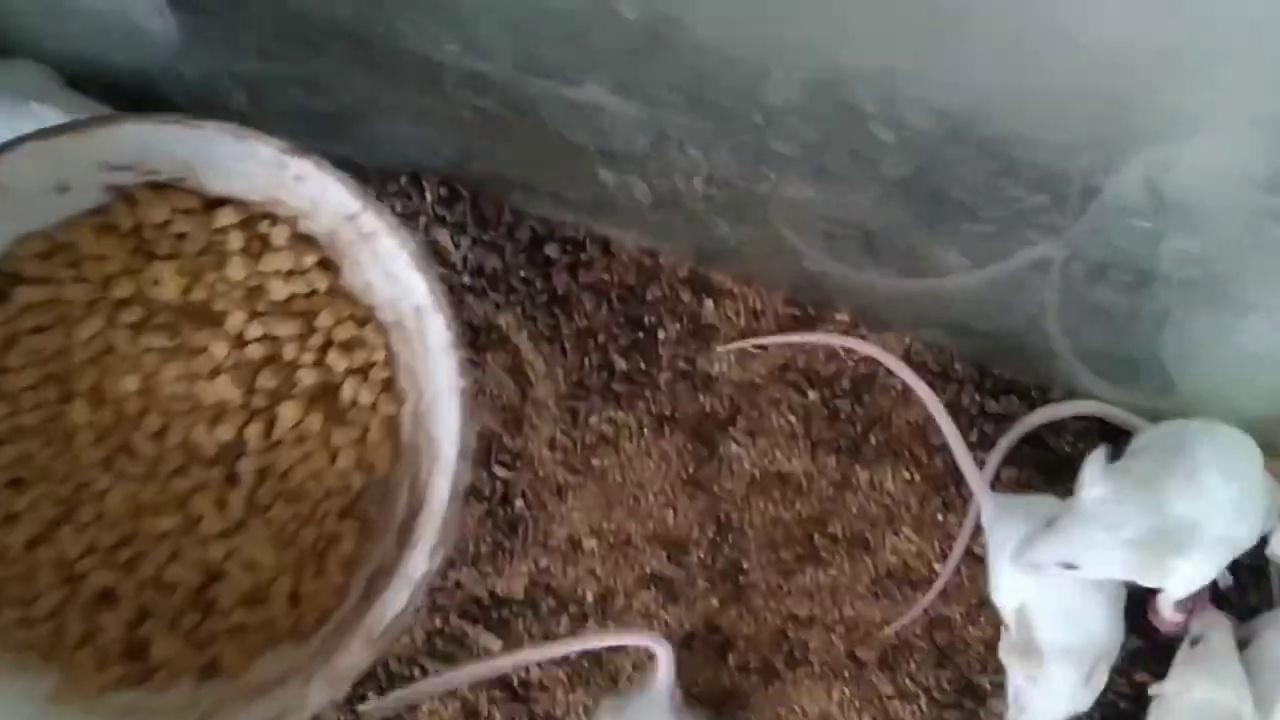rat: (716, 332, 1128, 720), (887, 398, 1265, 636), (1146, 599, 1255, 720)
